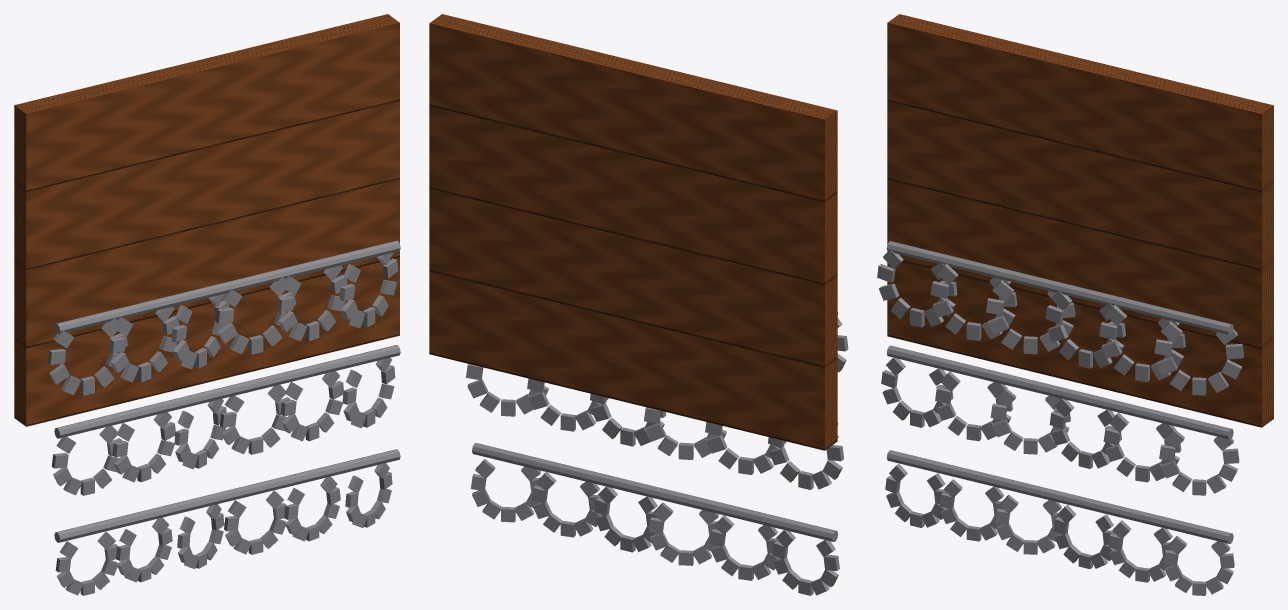
The model's file is blacksmith-forge-and-armoury-blacksmith-forge-and-armo-707c8f63__37591.glb.
The picture shows the model from 3 angles, left to right: view 1: azimuth 30°, elevation 25°; view 2: azimuth 150°, elevation 25°; view 3: azimuth 330°, elevation 25°; orthographic projection. The views are drawn at different scales.
Visible parts, largest first — view 1: blacksmith-forge-and-armoury-horseshoe-rack; view 2: blacksmith-forge-and-armoury-horseshoe-rack; view 3: blacksmith-forge-and-armoury-horseshoe-rack.
Part boxes in pixels (x1=…): blacksmith-forge-and-armoury-horseshoe-rack: x1=14, y1=14, x2=400, y2=595; blacksmith-forge-and-armoury-horseshoe-rack: x1=429, y1=14, x2=848, y2=595; blacksmith-forge-and-armoury-horseshoe-rack: x1=877, y1=14, x2=1273, y2=595.
Size of the model in its own units: 0.9 by 1.1 by 0.1574.
2 materials, 1 textured.
